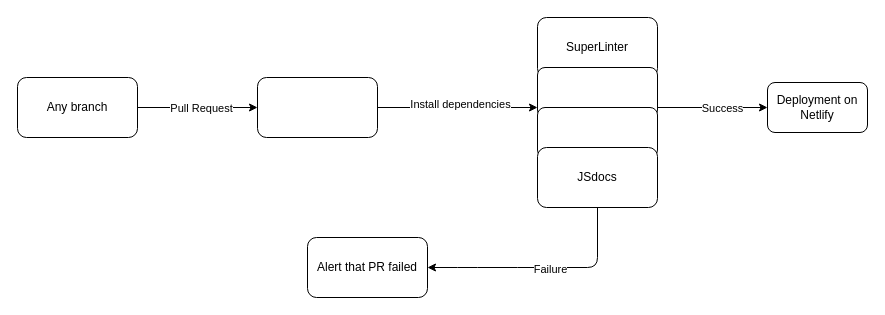
This 885x315 diagram has some shape labels left out. Each missing label, with the box of its shape:
Codequality: (536, 66, 658, 118)
Source Stage: (256, 76, 378, 138)
Unit testing: (536, 106, 658, 158)
